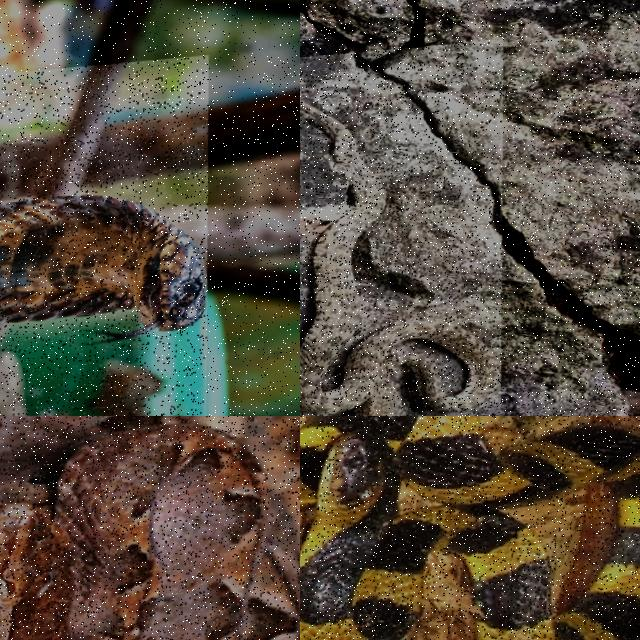Bungarus fasciatus: (300, 416, 639, 639)
Calloselasma rhodostoma: (0, 416, 299, 639)
Ophiophagus hannah: (0, 194, 206, 334)
Ovophis monticola: (300, 100, 501, 415)
